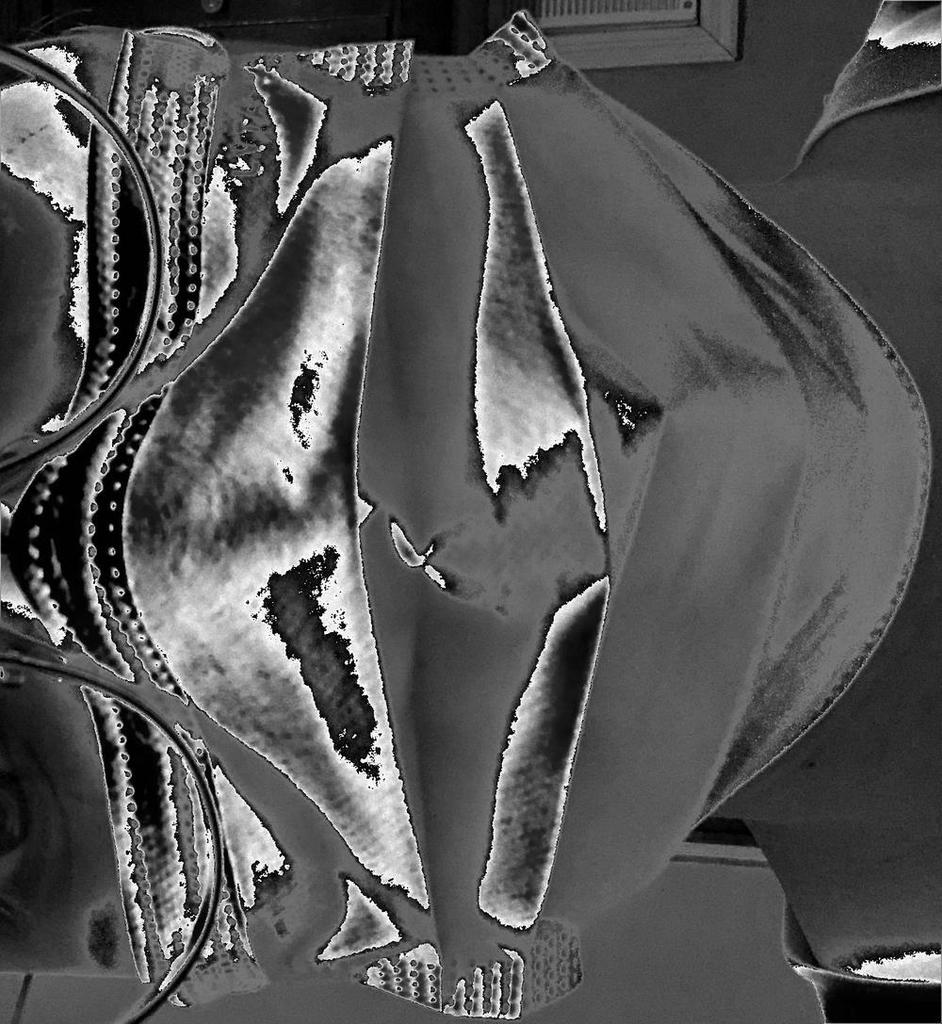Low GSM: (144, 12, 937, 1024)
